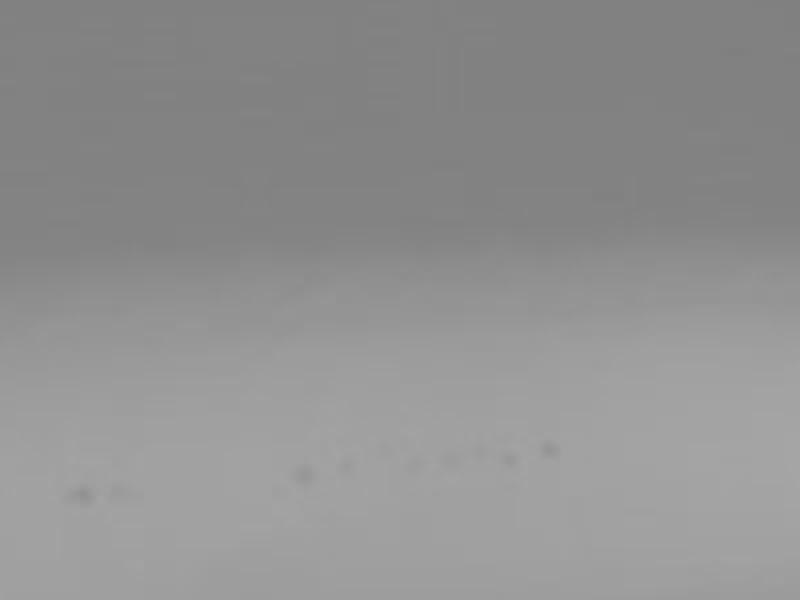defect: (101, 479, 141, 504), (435, 449, 465, 480), (287, 464, 319, 491), (496, 446, 525, 475), (535, 436, 565, 464), (63, 486, 96, 509), (406, 452, 429, 479), (334, 452, 356, 480), (471, 440, 492, 465)
